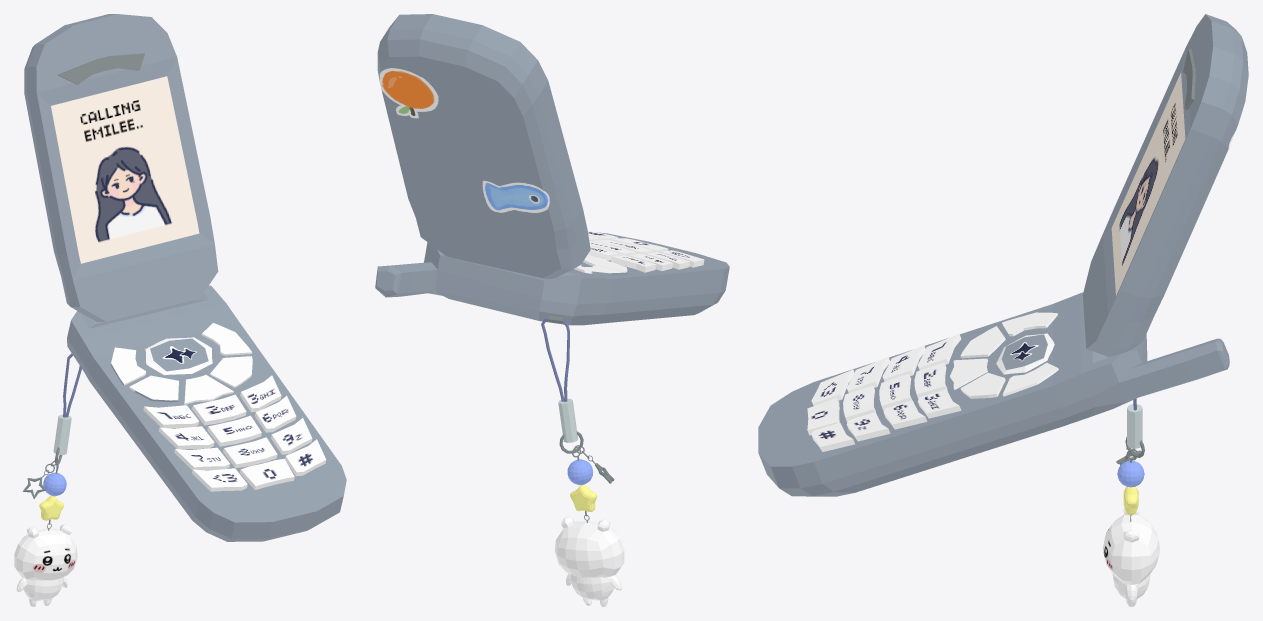
Rendered from cellphone.glb.
3 renders of one model, left to right at view 1: azimuth 30°, elevation 25°; view 2: azimuth 150°, elevation 25°; view 3: azimuth 270°, elevation 25°, orthographic. The views are drawn at different scales.
Visible parts, largest first — view 1: Cube.001, Cube, Plane, Roundcube, Cube.019, Cube.020, Cube.013, Cube.002, Cube.011, Cube.012, Cube.014, Cube.005 (+15 smaller); view 2: Cube.001, Cube, Roundcube, Roundcube.002, Cylinder, Cylinder.001, Cylinder.005, Roundcube.003; view 3: Cube, Cube.001, Plane, Roundcube, Cube.019, Cube.002, Cube.012, Cube.011, Cube.013, Cube.014, Cube.004, Cube.003 (+11 smaller).
Part boxes in pixels (x1,y1,x2,y2): Cube.001: [24, 14, 218, 321]; Cube: [67, 285, 346, 541]; Plane: [51, 76, 199, 263]; Roundcube: [14, 524, 77, 580]; Cube.019: [145, 337, 212, 375]; Cube.020: [57, 53, 144, 84]; Cube.013: [239, 458, 294, 489]; Cube.002: [192, 394, 246, 425]; Cube.011: [207, 415, 261, 446]; Cube.012: [223, 437, 277, 468]; Cube.014: [129, 375, 178, 402]; Cube.005: [192, 468, 247, 491]; Cube.001: [377, 14, 590, 278]; Cube: [375, 232, 729, 325]; Roundcube: [555, 516, 624, 577]; Roundcube.002: [566, 573, 621, 606]; Cylinder: [558, 398, 577, 442]; Cylinder.001: [541, 317, 569, 401]; Cylinder.005: [570, 484, 597, 511]; Roundcube.003: [567, 459, 592, 485]; Cube: [758, 292, 1229, 496]; Cube.001: [1082, 14, 1248, 356]; Plane: [1111, 73, 1185, 295]; Roundcube: [1103, 508, 1160, 584]; Cube.019: [996, 333, 1054, 374]; Cube.002: [914, 362, 947, 399]; Cube.012: [843, 385, 875, 422]; Cube.011: [879, 374, 911, 410]; Cube.013: [807, 397, 839, 435]; Cube.014: [960, 326, 1005, 358]; Cube.004: [847, 357, 890, 392]; Cube.003: [882, 345, 925, 381].
Bounding box in the file's own units: 1.59 × 4.34 × 3.11.
1 material, 1 textured.
